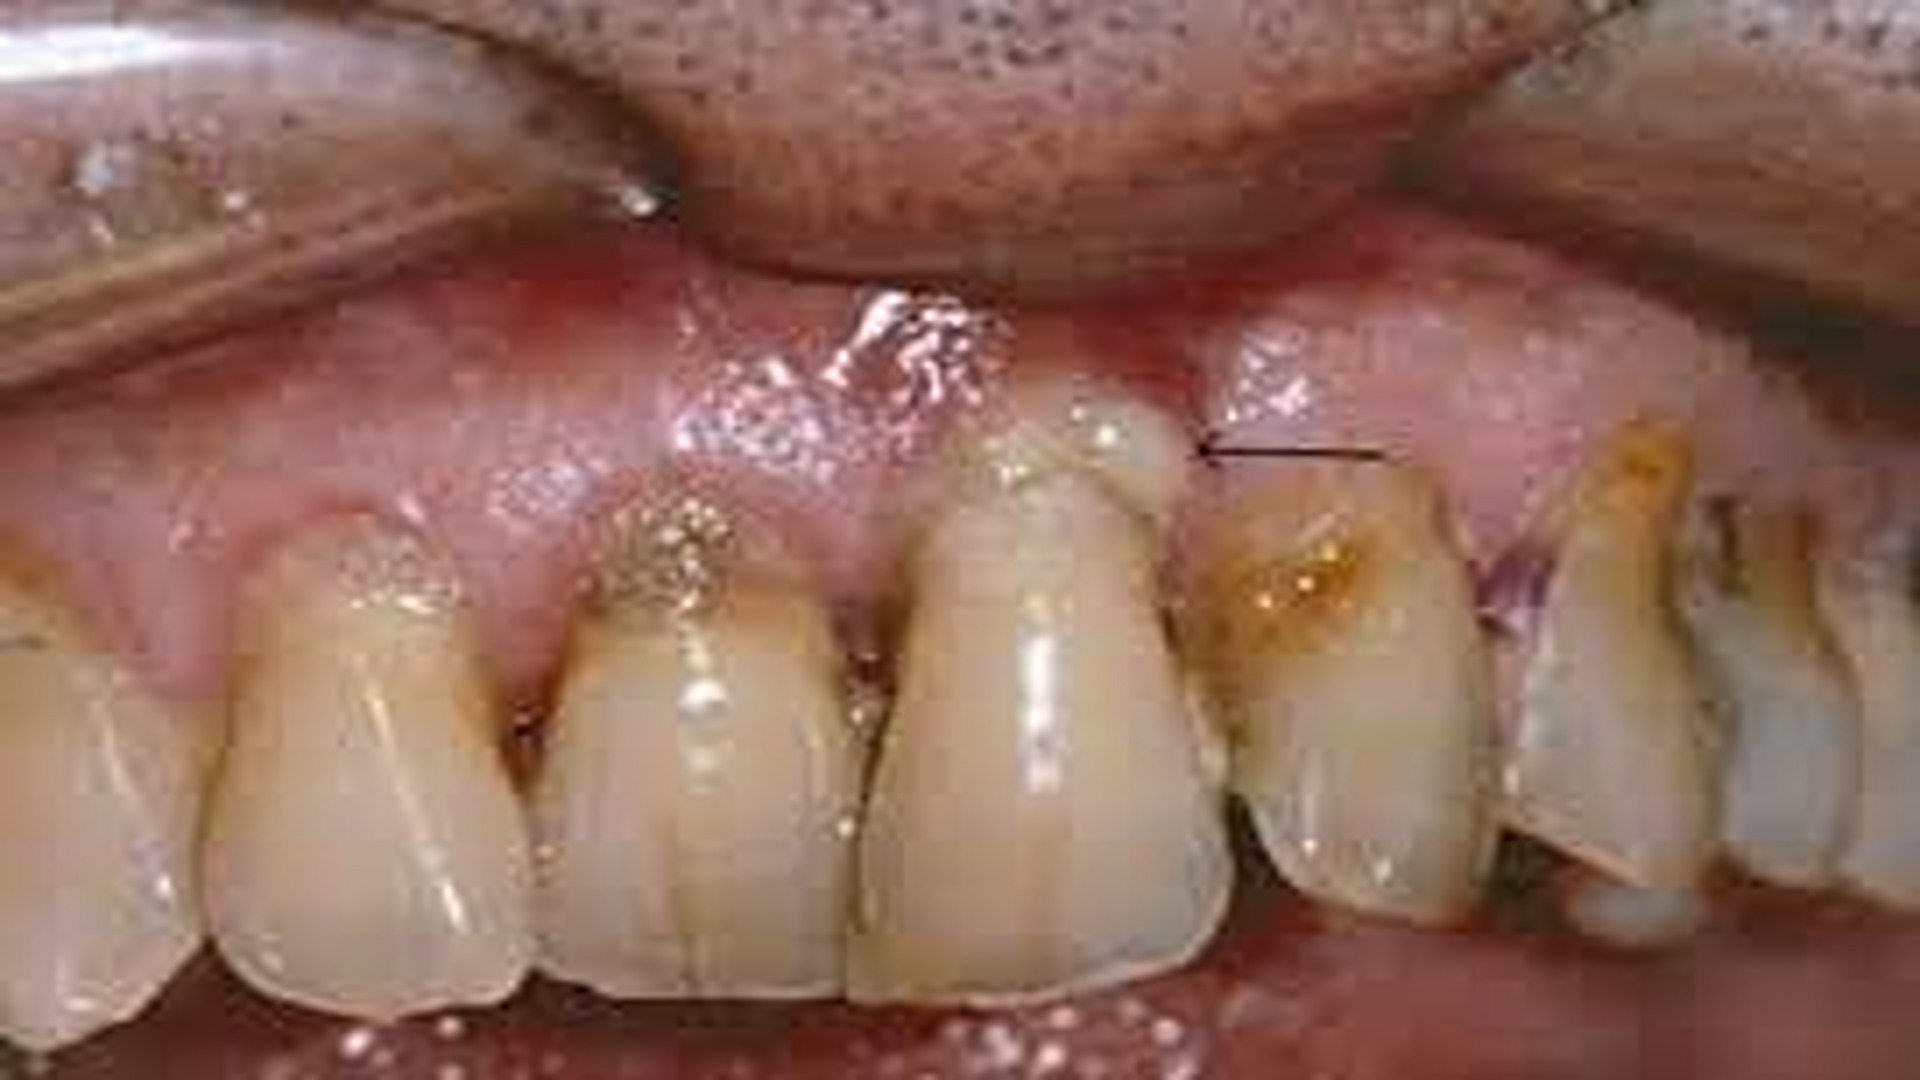tooth: (860, 475, 1235, 997), (202, 511, 536, 1020), (537, 563, 866, 1000), (1225, 506, 1497, 922), (1505, 419, 1707, 890), (1, 641, 203, 1051), (1713, 609, 1864, 888)
